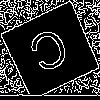C: (26, 25, 76, 83)
